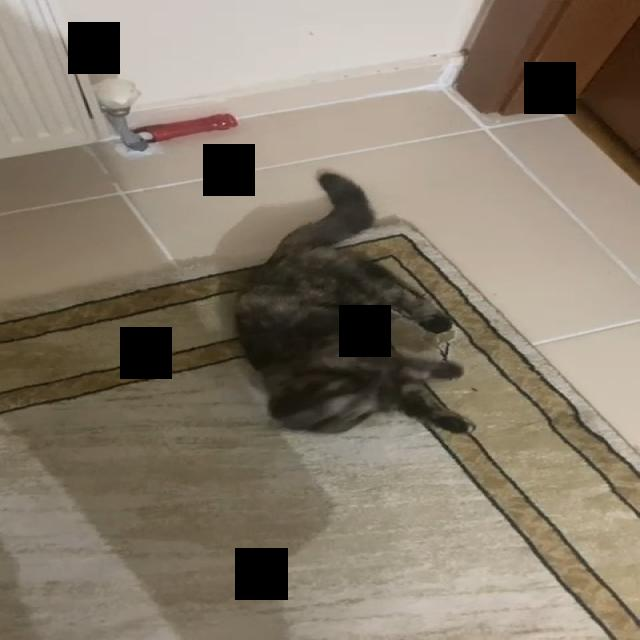authorized: (232, 170, 476, 435)
